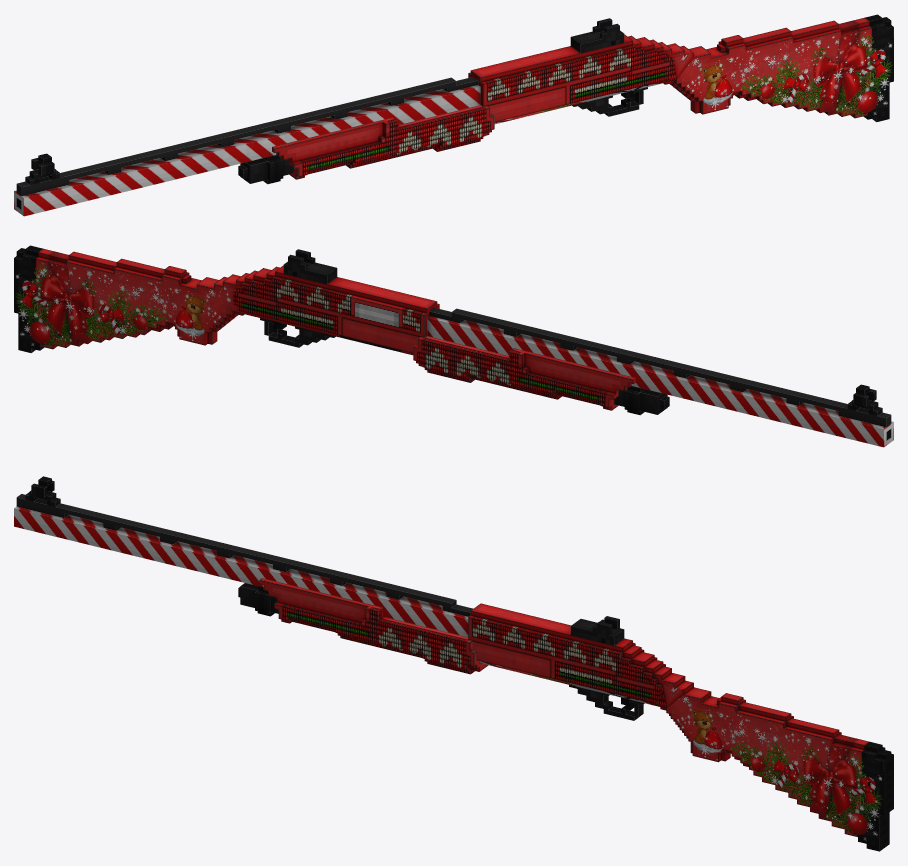
Rendered from NOVA_NY.glb.
3 views of the same model, one above another, from view 1: azimuth 30°, elevation 25°; view 2: azimuth 150°, elevation 25°; view 3: azimuth 330°, elevation 25° (orthographic).
Parts seen in each view (by area): view 1: BENELLI_NOVA_BODY, BENELLI_NOVA_FOREND; view 2: BENELLI_NOVA_BODY, BENELLI_NOVA_FOREND; view 3: BENELLI_NOVA_BODY, BENELLI_NOVA_FOREND.
Boxes of the visible parts, x1,y1,x2,y2 form: BENELLI_NOVA_BODY: (14, 14, 893, 216); BENELLI_NOVA_FOREND: (272, 105, 494, 179); BENELLI_NOVA_BODY: (14, 245, 893, 447); BENELLI_NOVA_FOREND: (413, 336, 635, 410); BENELLI_NOVA_BODY: (14, 476, 893, 851); BENELLI_NOVA_FOREND: (259, 578, 488, 674).
Bounding box in the file's own units: 1.97 × 0.3544 × 0.0788.
1 material, 1 textured.
